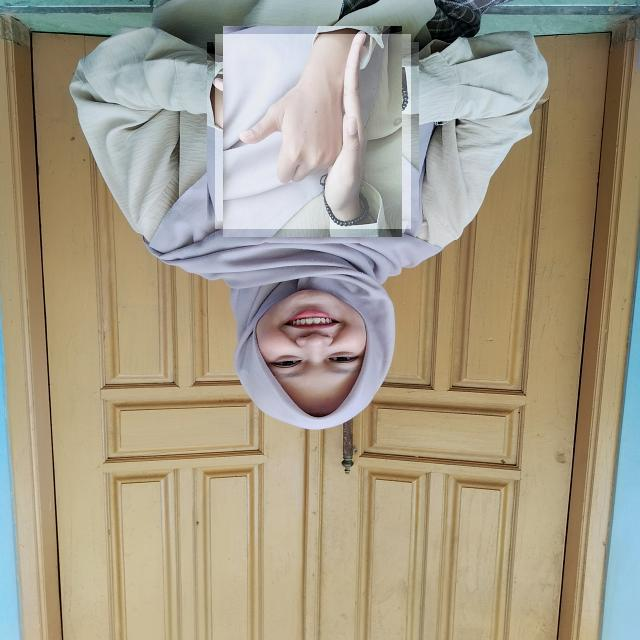cantik: (215, 34, 411, 229)
